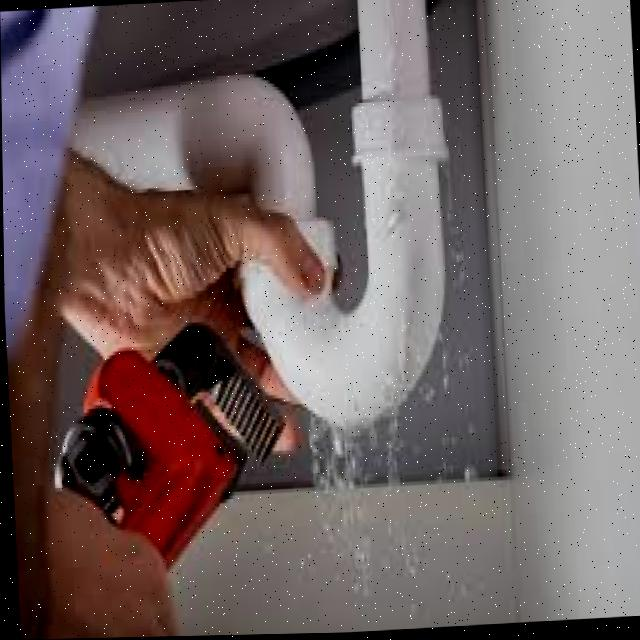corrosion: (309, 98, 465, 380)
